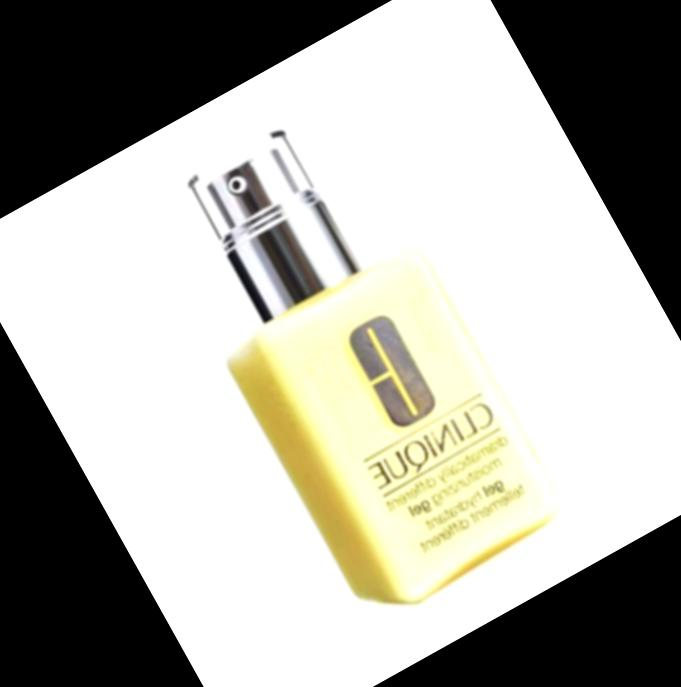cosmetic: (133, 88, 571, 625)
